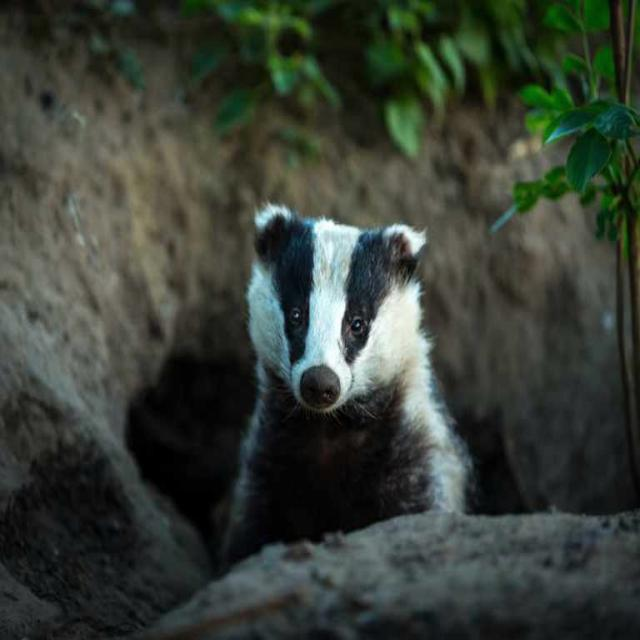badger: (221, 203, 471, 564)
